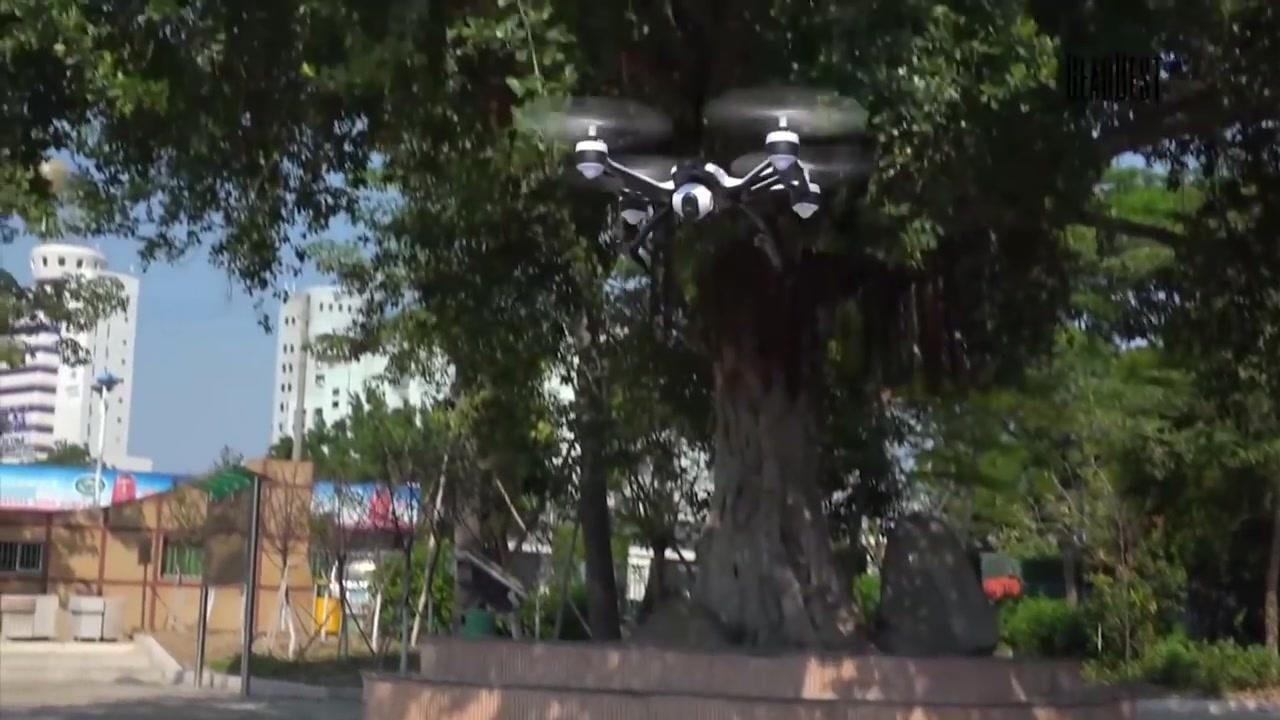UAV: (519, 91, 871, 275)
